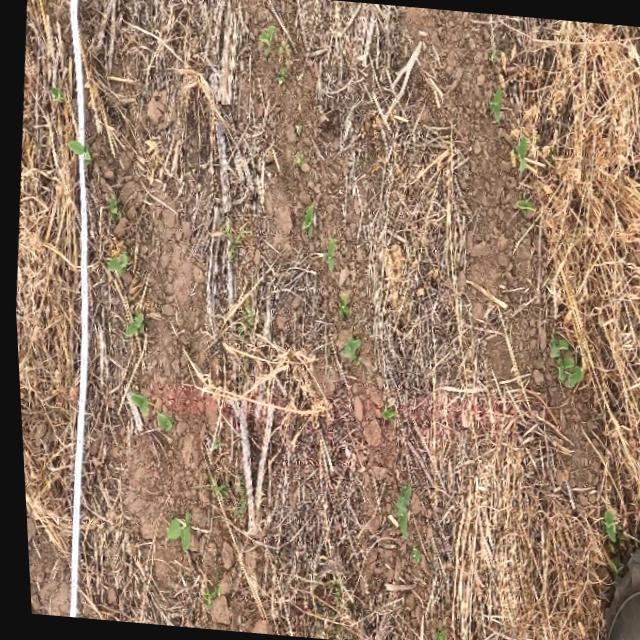soy_plant: (257, 23, 291, 84), (545, 334, 579, 387), (203, 240, 221, 307), (160, 512, 185, 551), (390, 484, 406, 538), (67, 140, 90, 164), (126, 392, 148, 416), (120, 312, 141, 336), (339, 336, 357, 364), (489, 86, 502, 122), (595, 510, 609, 542), (104, 253, 125, 274), (513, 135, 525, 171), (196, 586, 214, 608), (299, 203, 310, 238), (320, 239, 332, 270), (514, 200, 533, 218), (222, 265, 230, 305), (152, 412, 168, 431), (107, 196, 119, 221), (335, 293, 345, 319), (376, 406, 391, 420), (403, 545, 415, 562), (50, 85, 61, 102), (427, 631, 439, 640)
